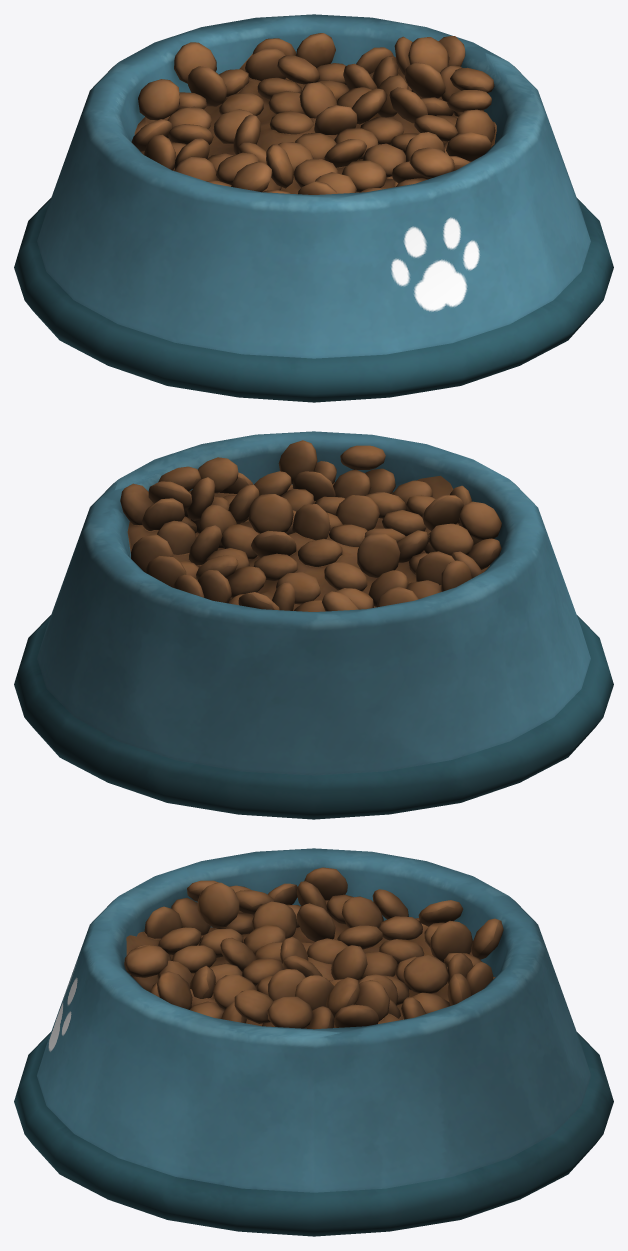
Rendered from cat feed box.fbx.
3 views of the same model, one above another, from view 1: azimuth 30°, elevation 25°; view 2: azimuth 150°, elevation 25°; view 3: azimuth 270°, elevation 25° (orthographic).
Visible parts, largest first — view 1: PET BOWL_PET BOWL_0; view 2: PET BOWL_PET BOWL_0; view 3: PET BOWL_PET BOWL_0.
Part boxes in pixels (x1,y1,x2,y2): PET BOWL_PET BOWL_0: (14, 14, 613, 402); PET BOWL_PET BOWL_0: (14, 431, 613, 819); PET BOWL_PET BOWL_0: (14, 848, 613, 1236).
Size of the model in its own units: 210 by 76.33 by 210.
Materials: 1 (1 with a texture image).
